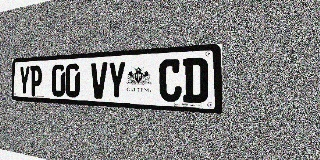0: (65, 63, 80, 98), (51, 64, 65, 97)
C: (159, 59, 182, 102)
D: (182, 57, 208, 103)
P: (30, 65, 42, 96)
V: (90, 62, 107, 99)
Y: (108, 61, 126, 100), (19, 66, 30, 95)
